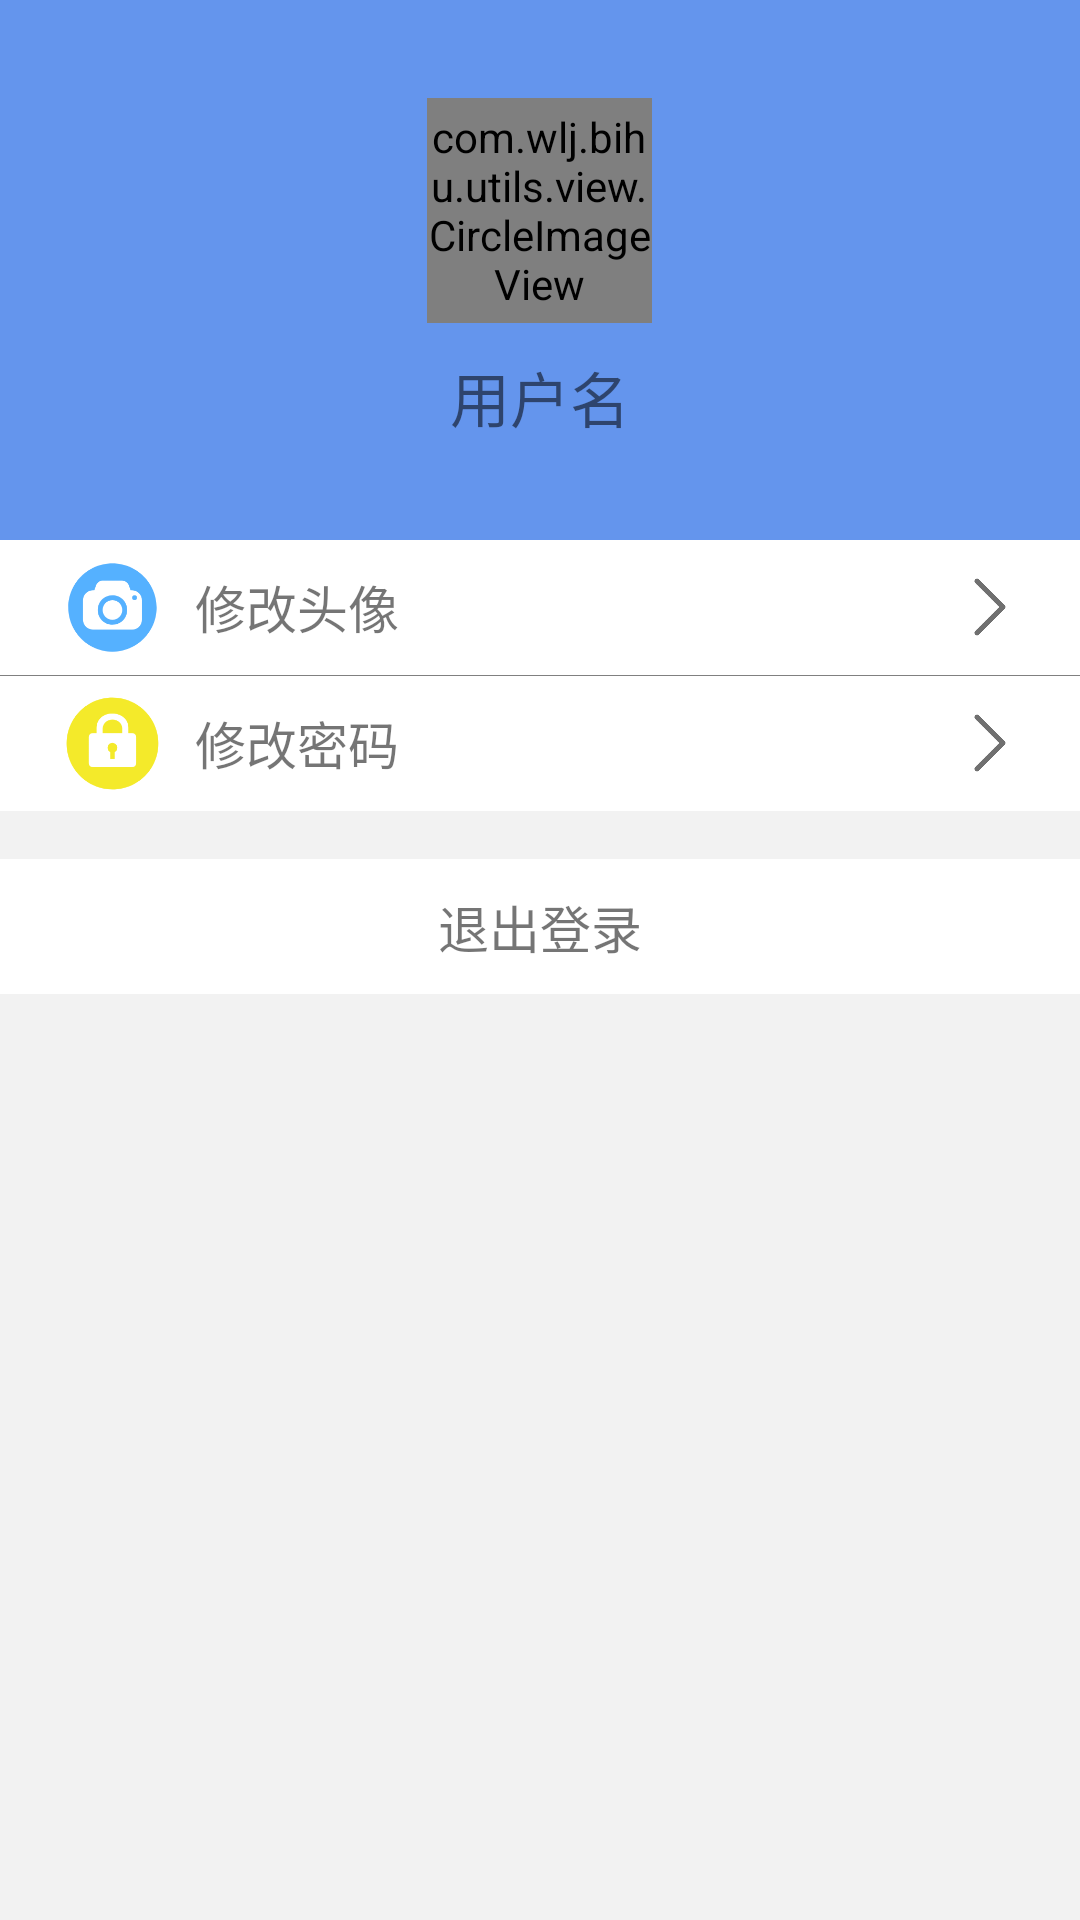

Point at icon controls on the screen. Image size 1080w x 1920h, points as point (x, y).
change password: point (112, 743)
